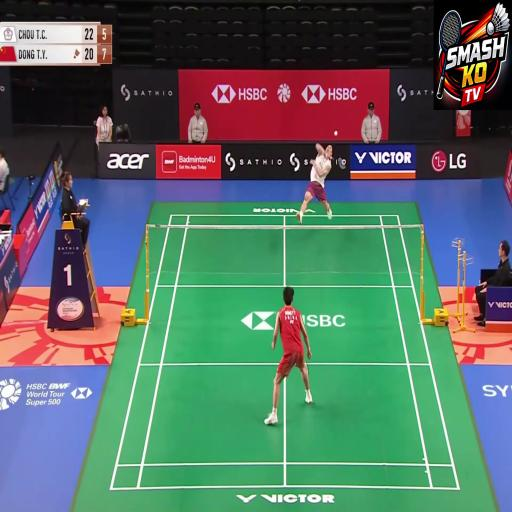player: (252, 268, 322, 439), (286, 132, 342, 241)
